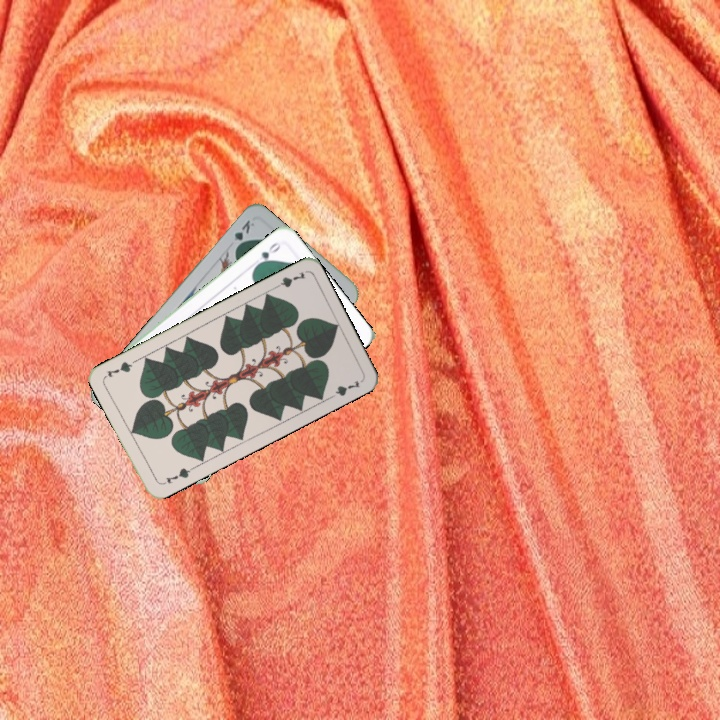G7: (269, 268, 308, 292), (162, 463, 196, 486)
GK: (229, 215, 257, 253)
GO: (251, 238, 283, 270)
